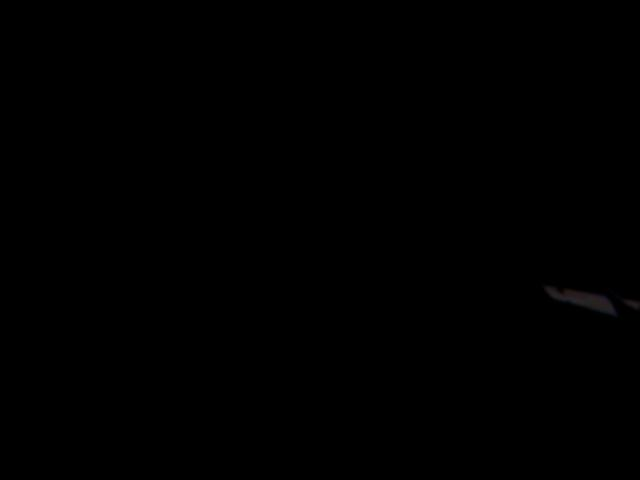iha: (514, 260, 640, 380)
